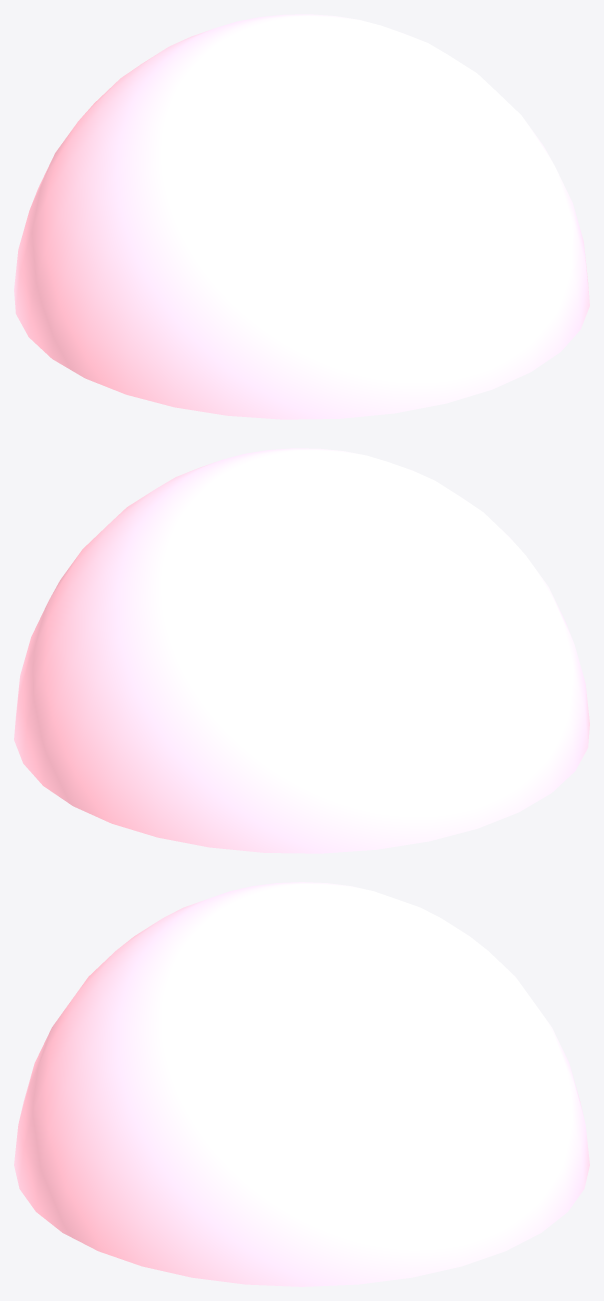
Rendered from pink-upper.glb.
3 renders of one model, top to bottom at view 1: azimuth 30°, elevation 25°; view 2: azimuth 150°, elevation 25°; view 3: azimuth 270°, elevation 25°, orthographic.
Visible parts, largest first — view 1: pink-upper; view 2: pink-upper; view 3: pink-upper.
Boxes of the visible parts, x1,y1,x2,y2 form: pink-upper: [14, 14, 589, 419]; pink-upper: [14, 448, 589, 853]; pink-upper: [14, 882, 589, 1286].
Bounding box in the file's own units: 2 × 0.982 × 2.
